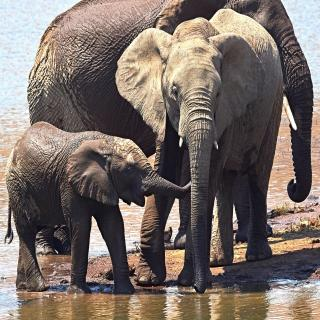Elephant: (114, 7, 290, 276), (2, 120, 194, 287)
